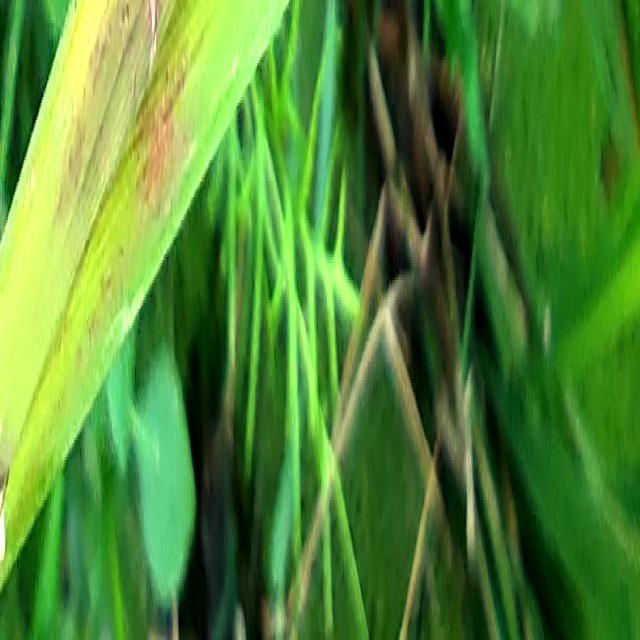LEAF BLAST: (148, 0, 159, 48)
